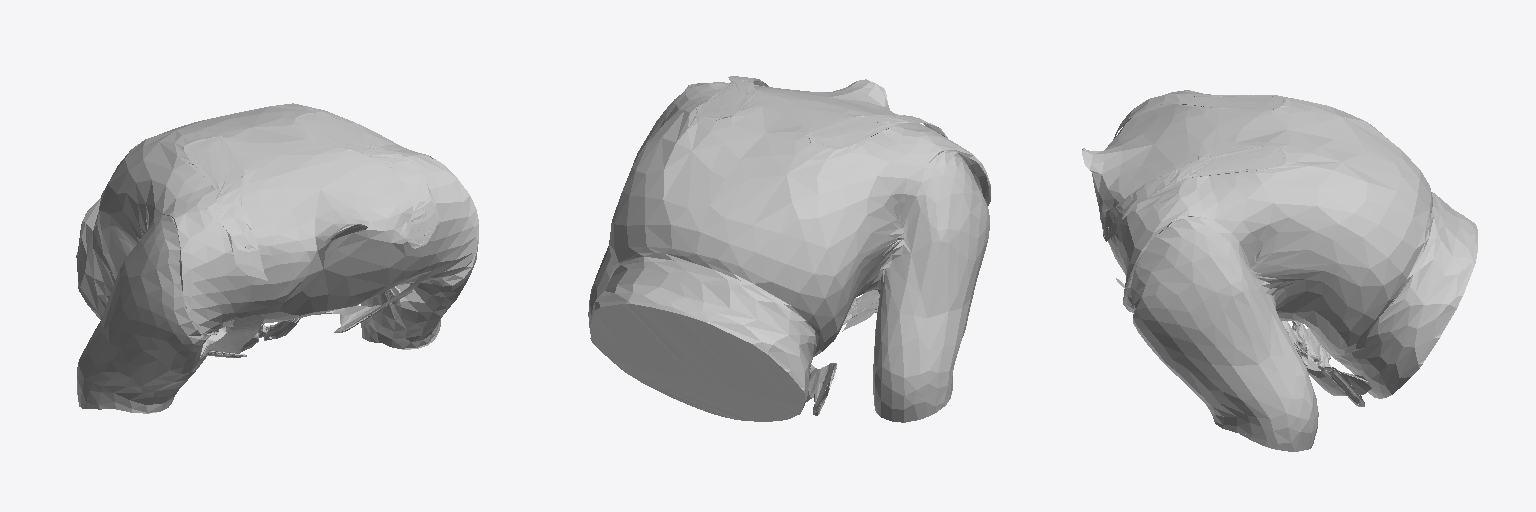
The model's file is GTR_Driver3SmoothTorso.obj.
3 views of the same model, side by side, from view 1: azimuth 30°, elevation 25°; view 2: azimuth 150°, elevation 25°; view 3: azimuth 270°, elevation 25° (orthographic).
Visible parts, largest first — view 1: Object.1, Object.2; view 2: Object.1; view 3: Object.1.
Part boxes in pixels (left/top/right/bottom): Object.1: left=76, top=103, right=478, bottom=413; Object.2: left=207, top=316, right=264, bottom=357; Object.1: left=588, top=76, right=990, bottom=422; Object.1: left=1082, top=90, right=1477, bottom=451.
Size of the model in its own units: 12.94 by 9.04 by 12.56.